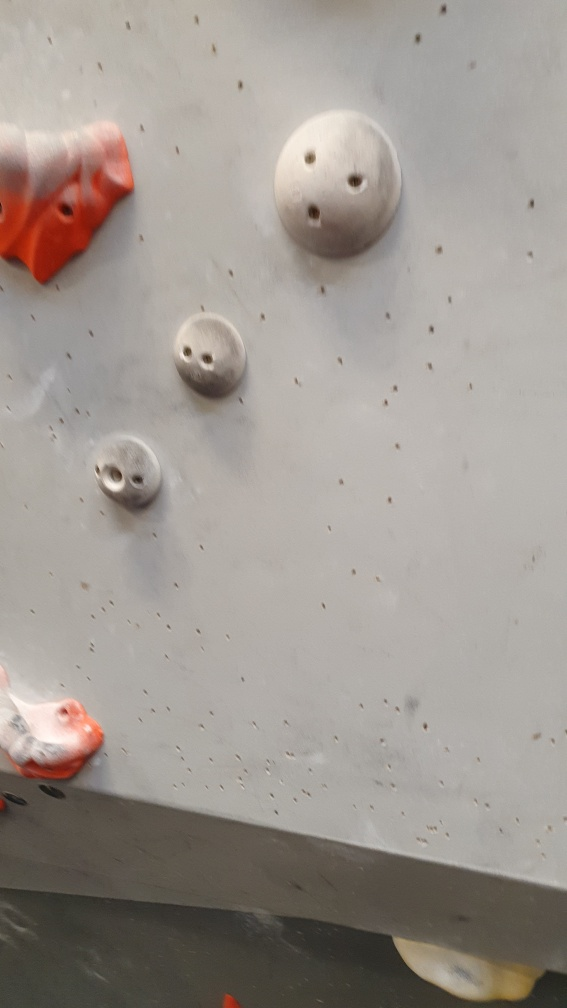Jug: (1, 109, 138, 285), (1, 655, 113, 791)
Sloper: (273, 107, 407, 260), (170, 309, 249, 400), (91, 434, 167, 517)
